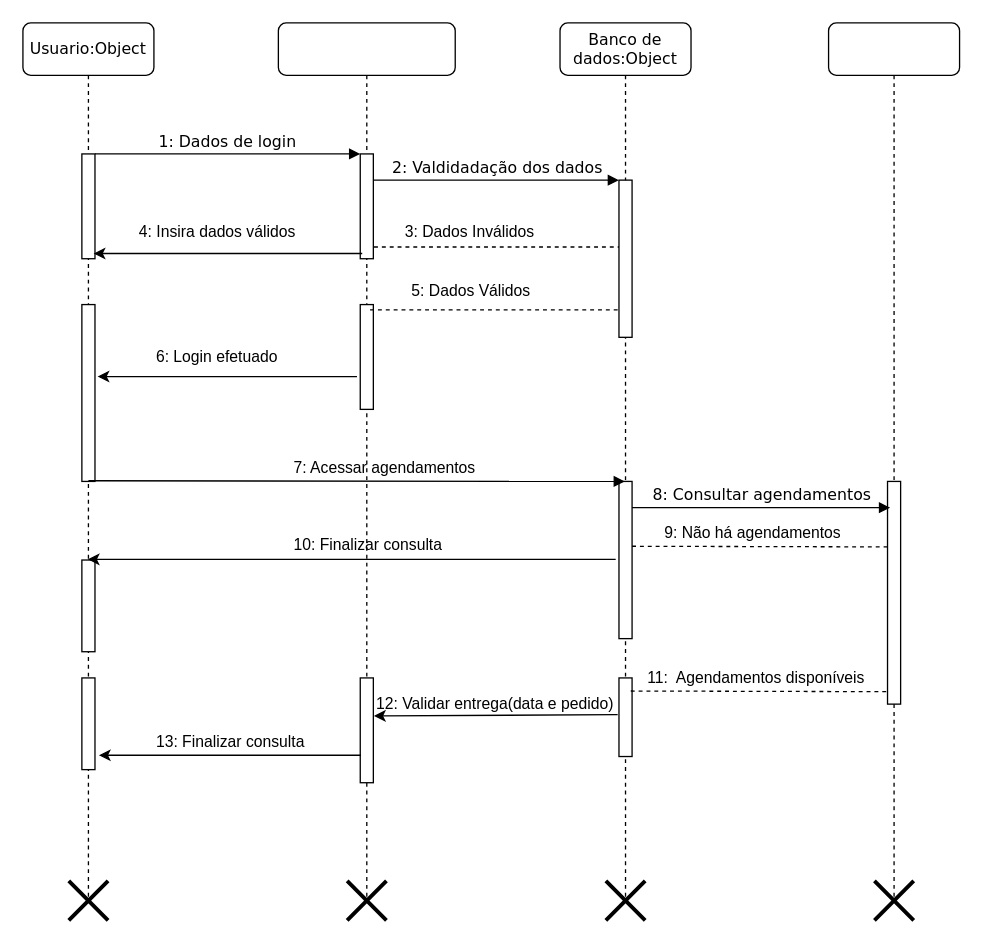
The diagram is 982 pixels wide and 945 high, and some of its shapes have lost their labels. The box of each missing label's shape, as (x1, y1, x2, y2) in pixels:
Agendamentos :Object: (827, 22, 960, 901)
Tela de login:Object: (277, 22, 455, 901)
